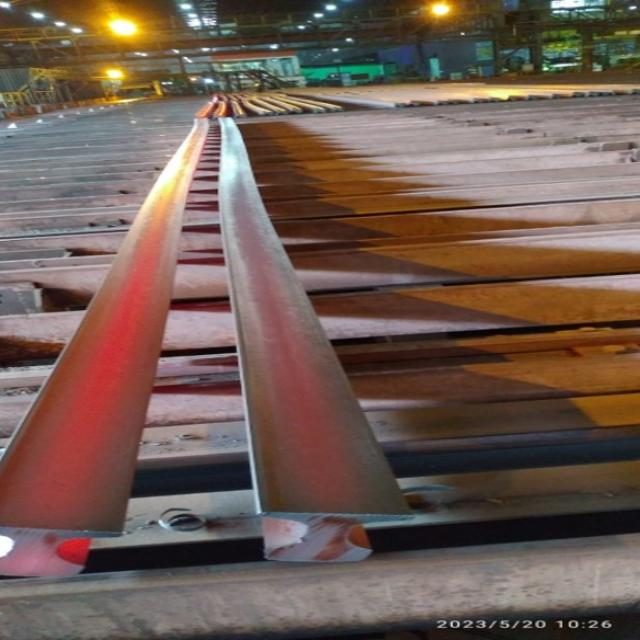defect: (220, 119, 320, 338), (101, 121, 208, 305)
